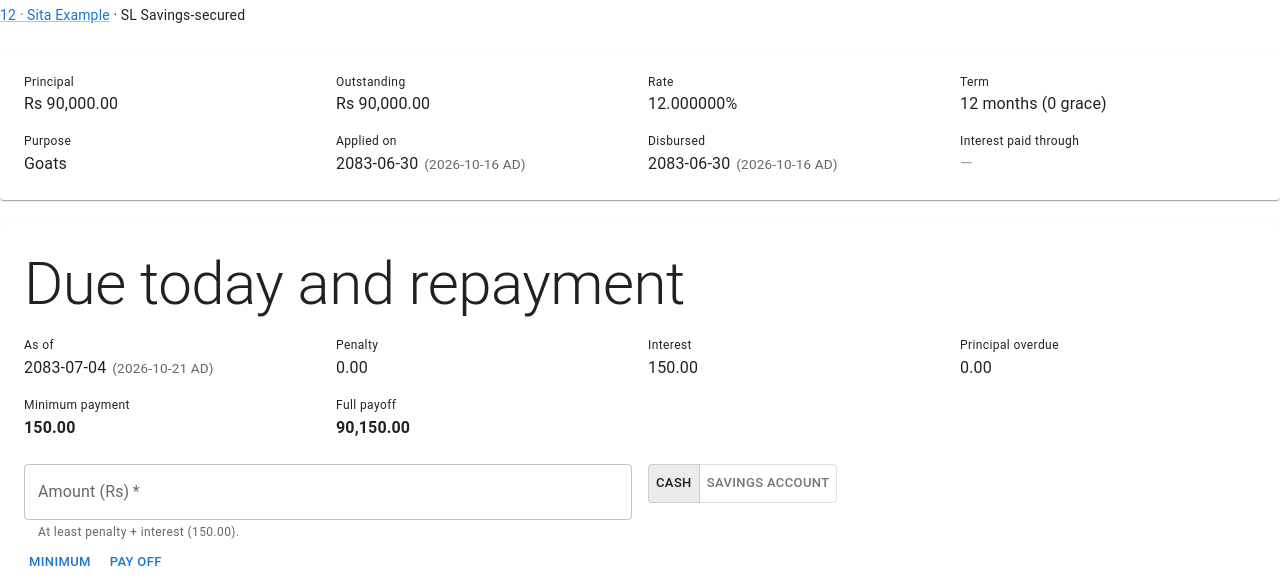
Test: LoanView › repays with an idempotency key that is reused when the network fails
Type "1,000" into the field labelled "Amount (Rs) *" at [328, 492], box [24,464,632,520]
(page scrolled)
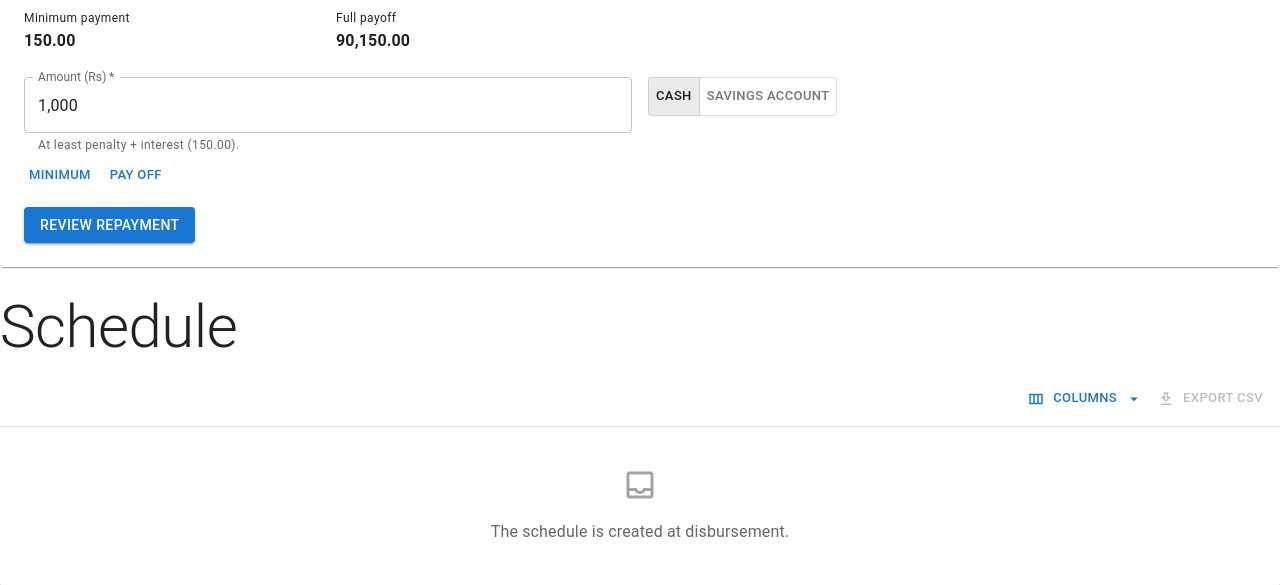
Click the button "Review repayment" at [110, 225], box [24,207,196,243]
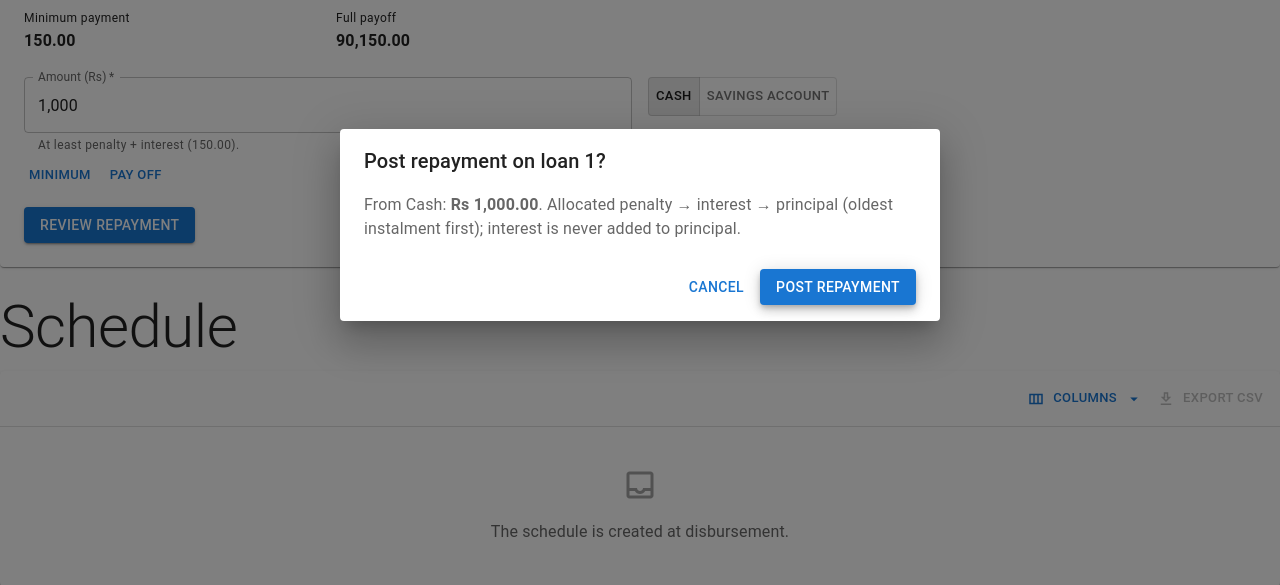
Click the button "Post repayment" at [838, 287], box [760,269,916,305]
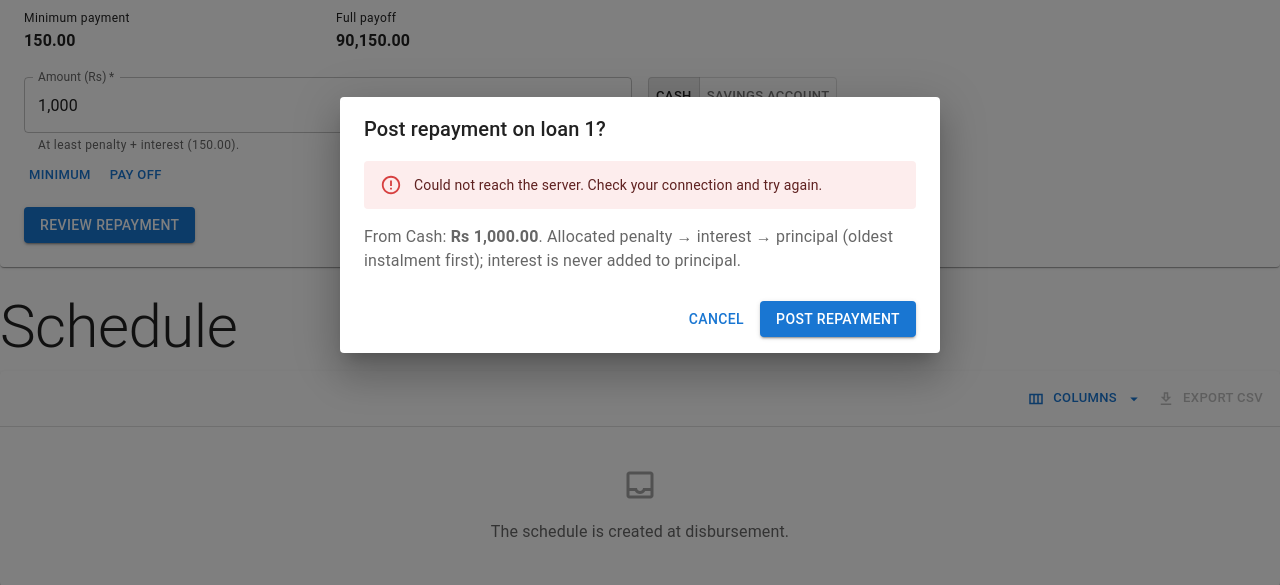
Expected: the text "Could not reach the server" is shown, [414,177,822,193]
Click the button "Post repayment" at [838, 319], box [760,301,916,337]
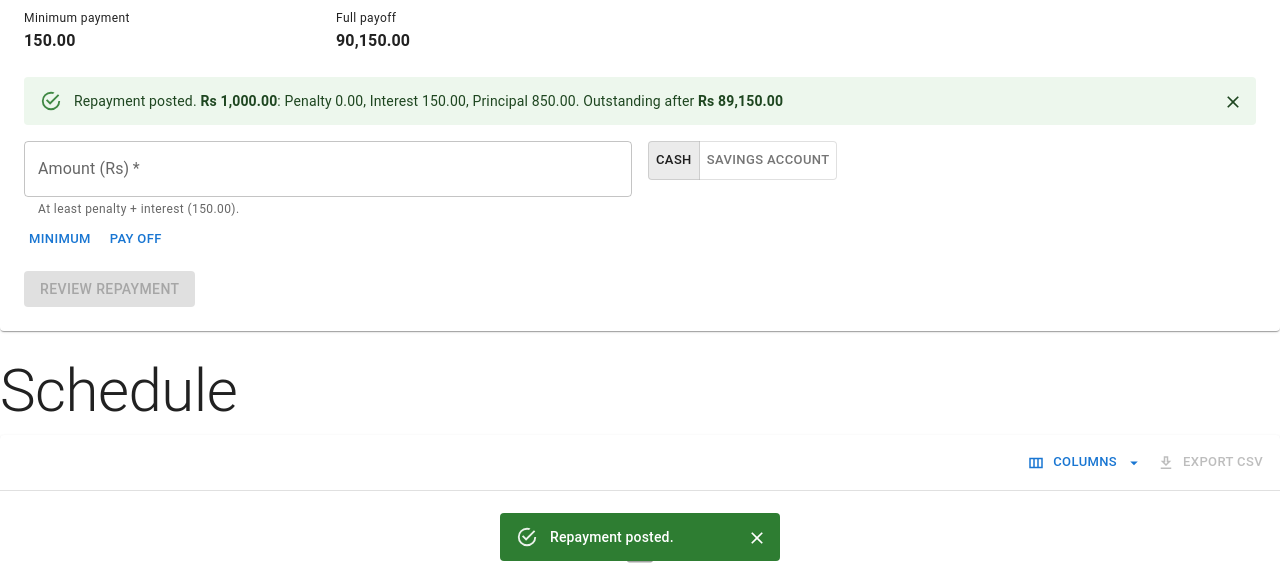
Expected: the text "Outstanding after" is shown, [583,93,694,109]
